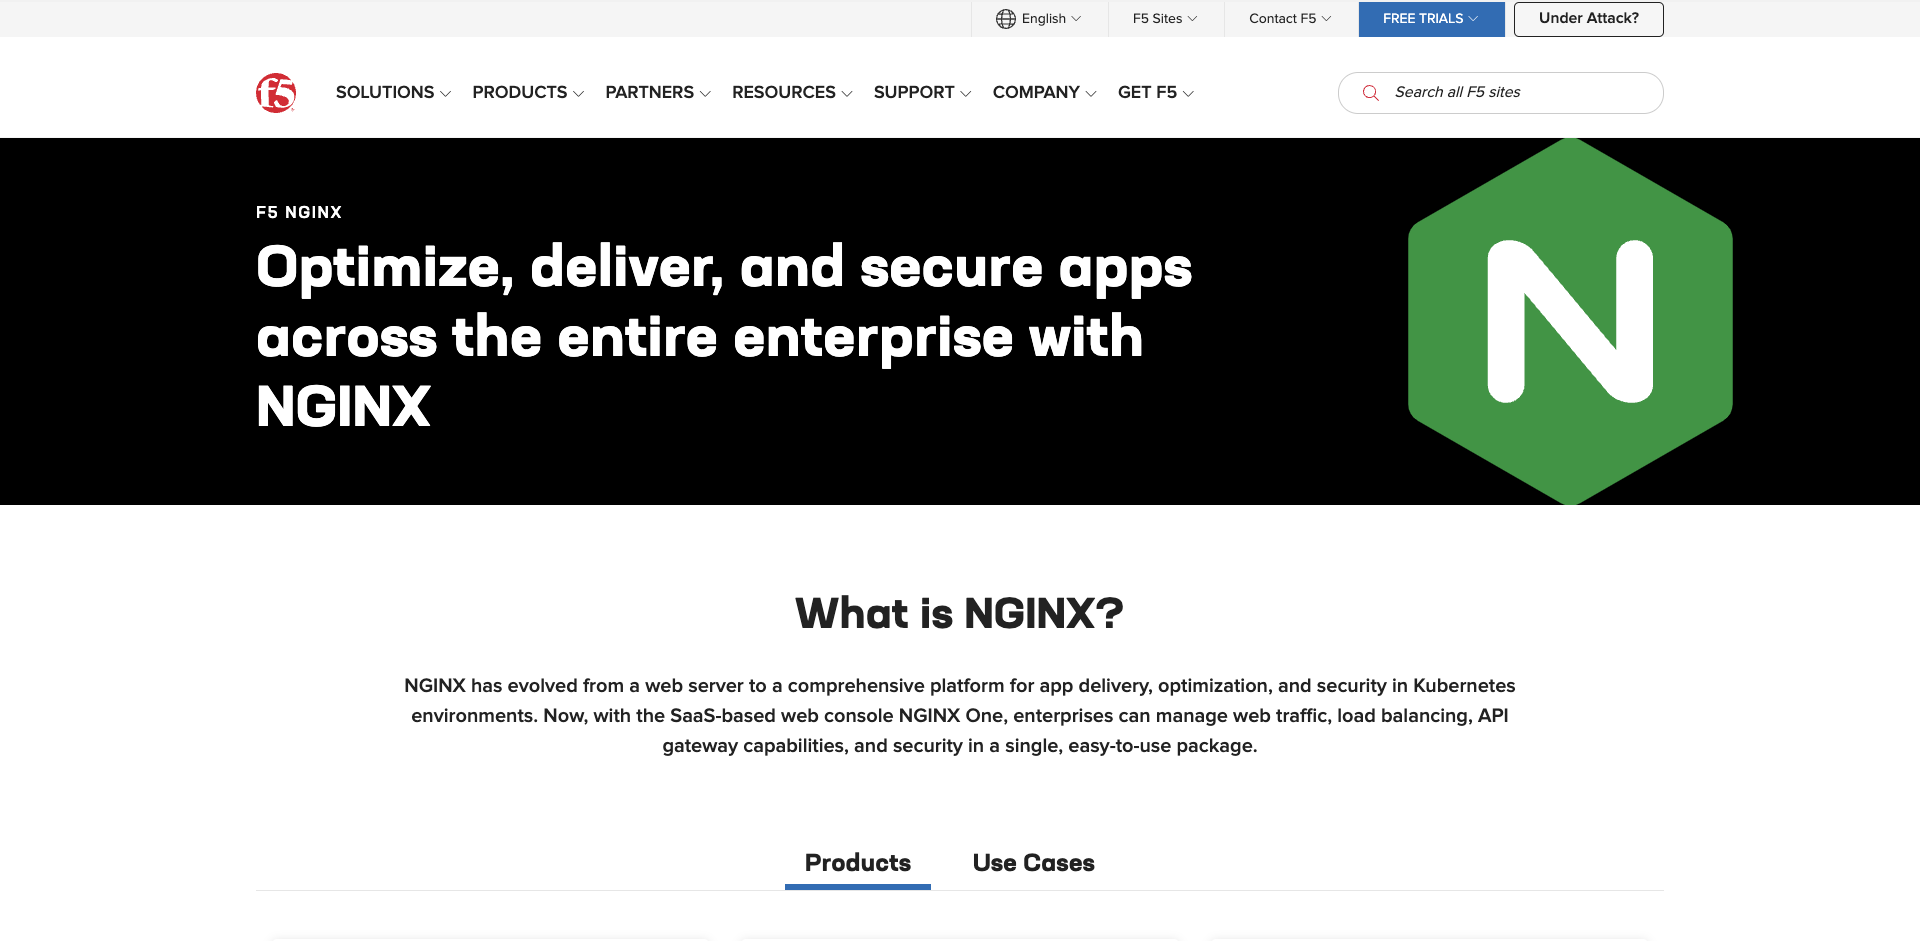button: (1515, 1, 1664, 37), (1539, 7, 1640, 31), (1354, 74, 1386, 113)
link: (1359, 0, 1505, 37), (972, 0, 1108, 37), (1226, 0, 1358, 37), (724, 76, 864, 109), (327, 76, 464, 109), (464, 76, 596, 109), (1109, 0, 1224, 37), (596, 76, 724, 109), (983, 76, 1109, 109), (864, 76, 983, 109), (1109, 76, 1206, 109), (256, 74, 296, 113), (741, 939, 1179, 941), (272, 939, 709, 941), (1211, 939, 1648, 941)
